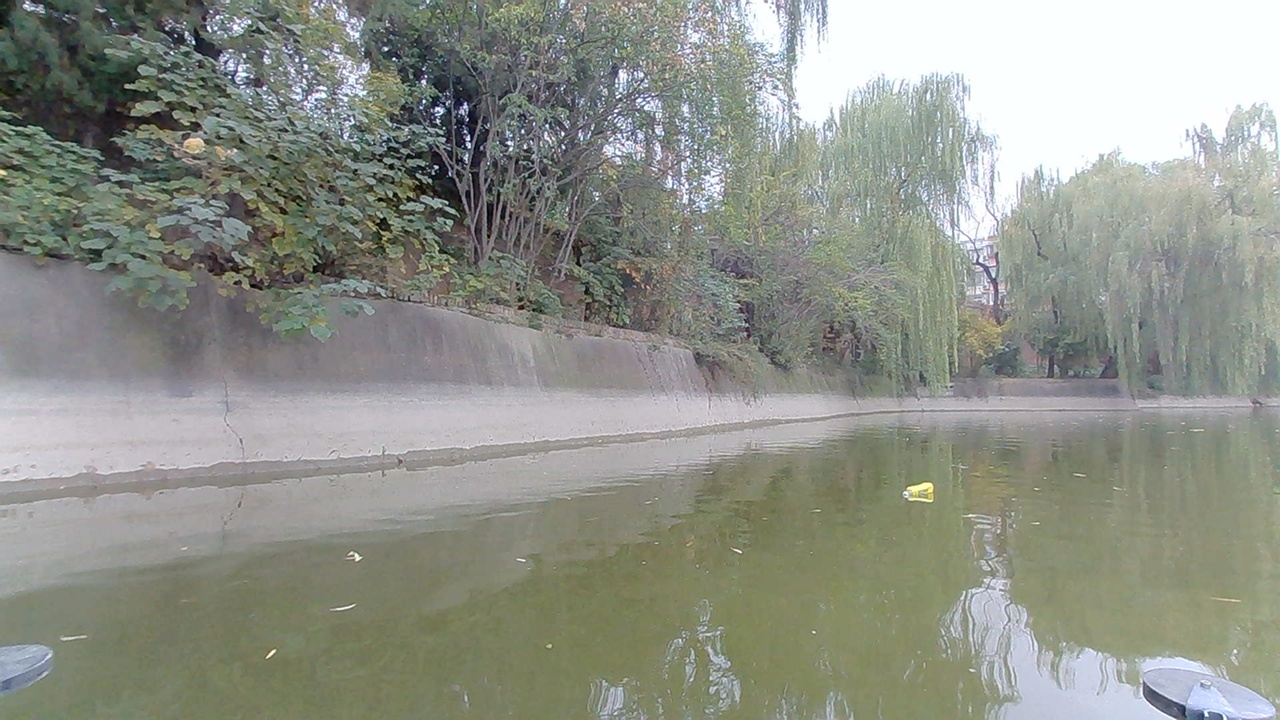bottle: (905, 480, 939, 503)
